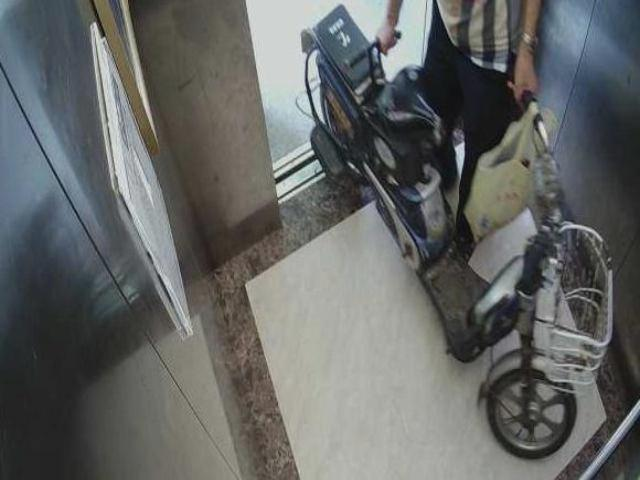emotor: (307, 37, 592, 456)
